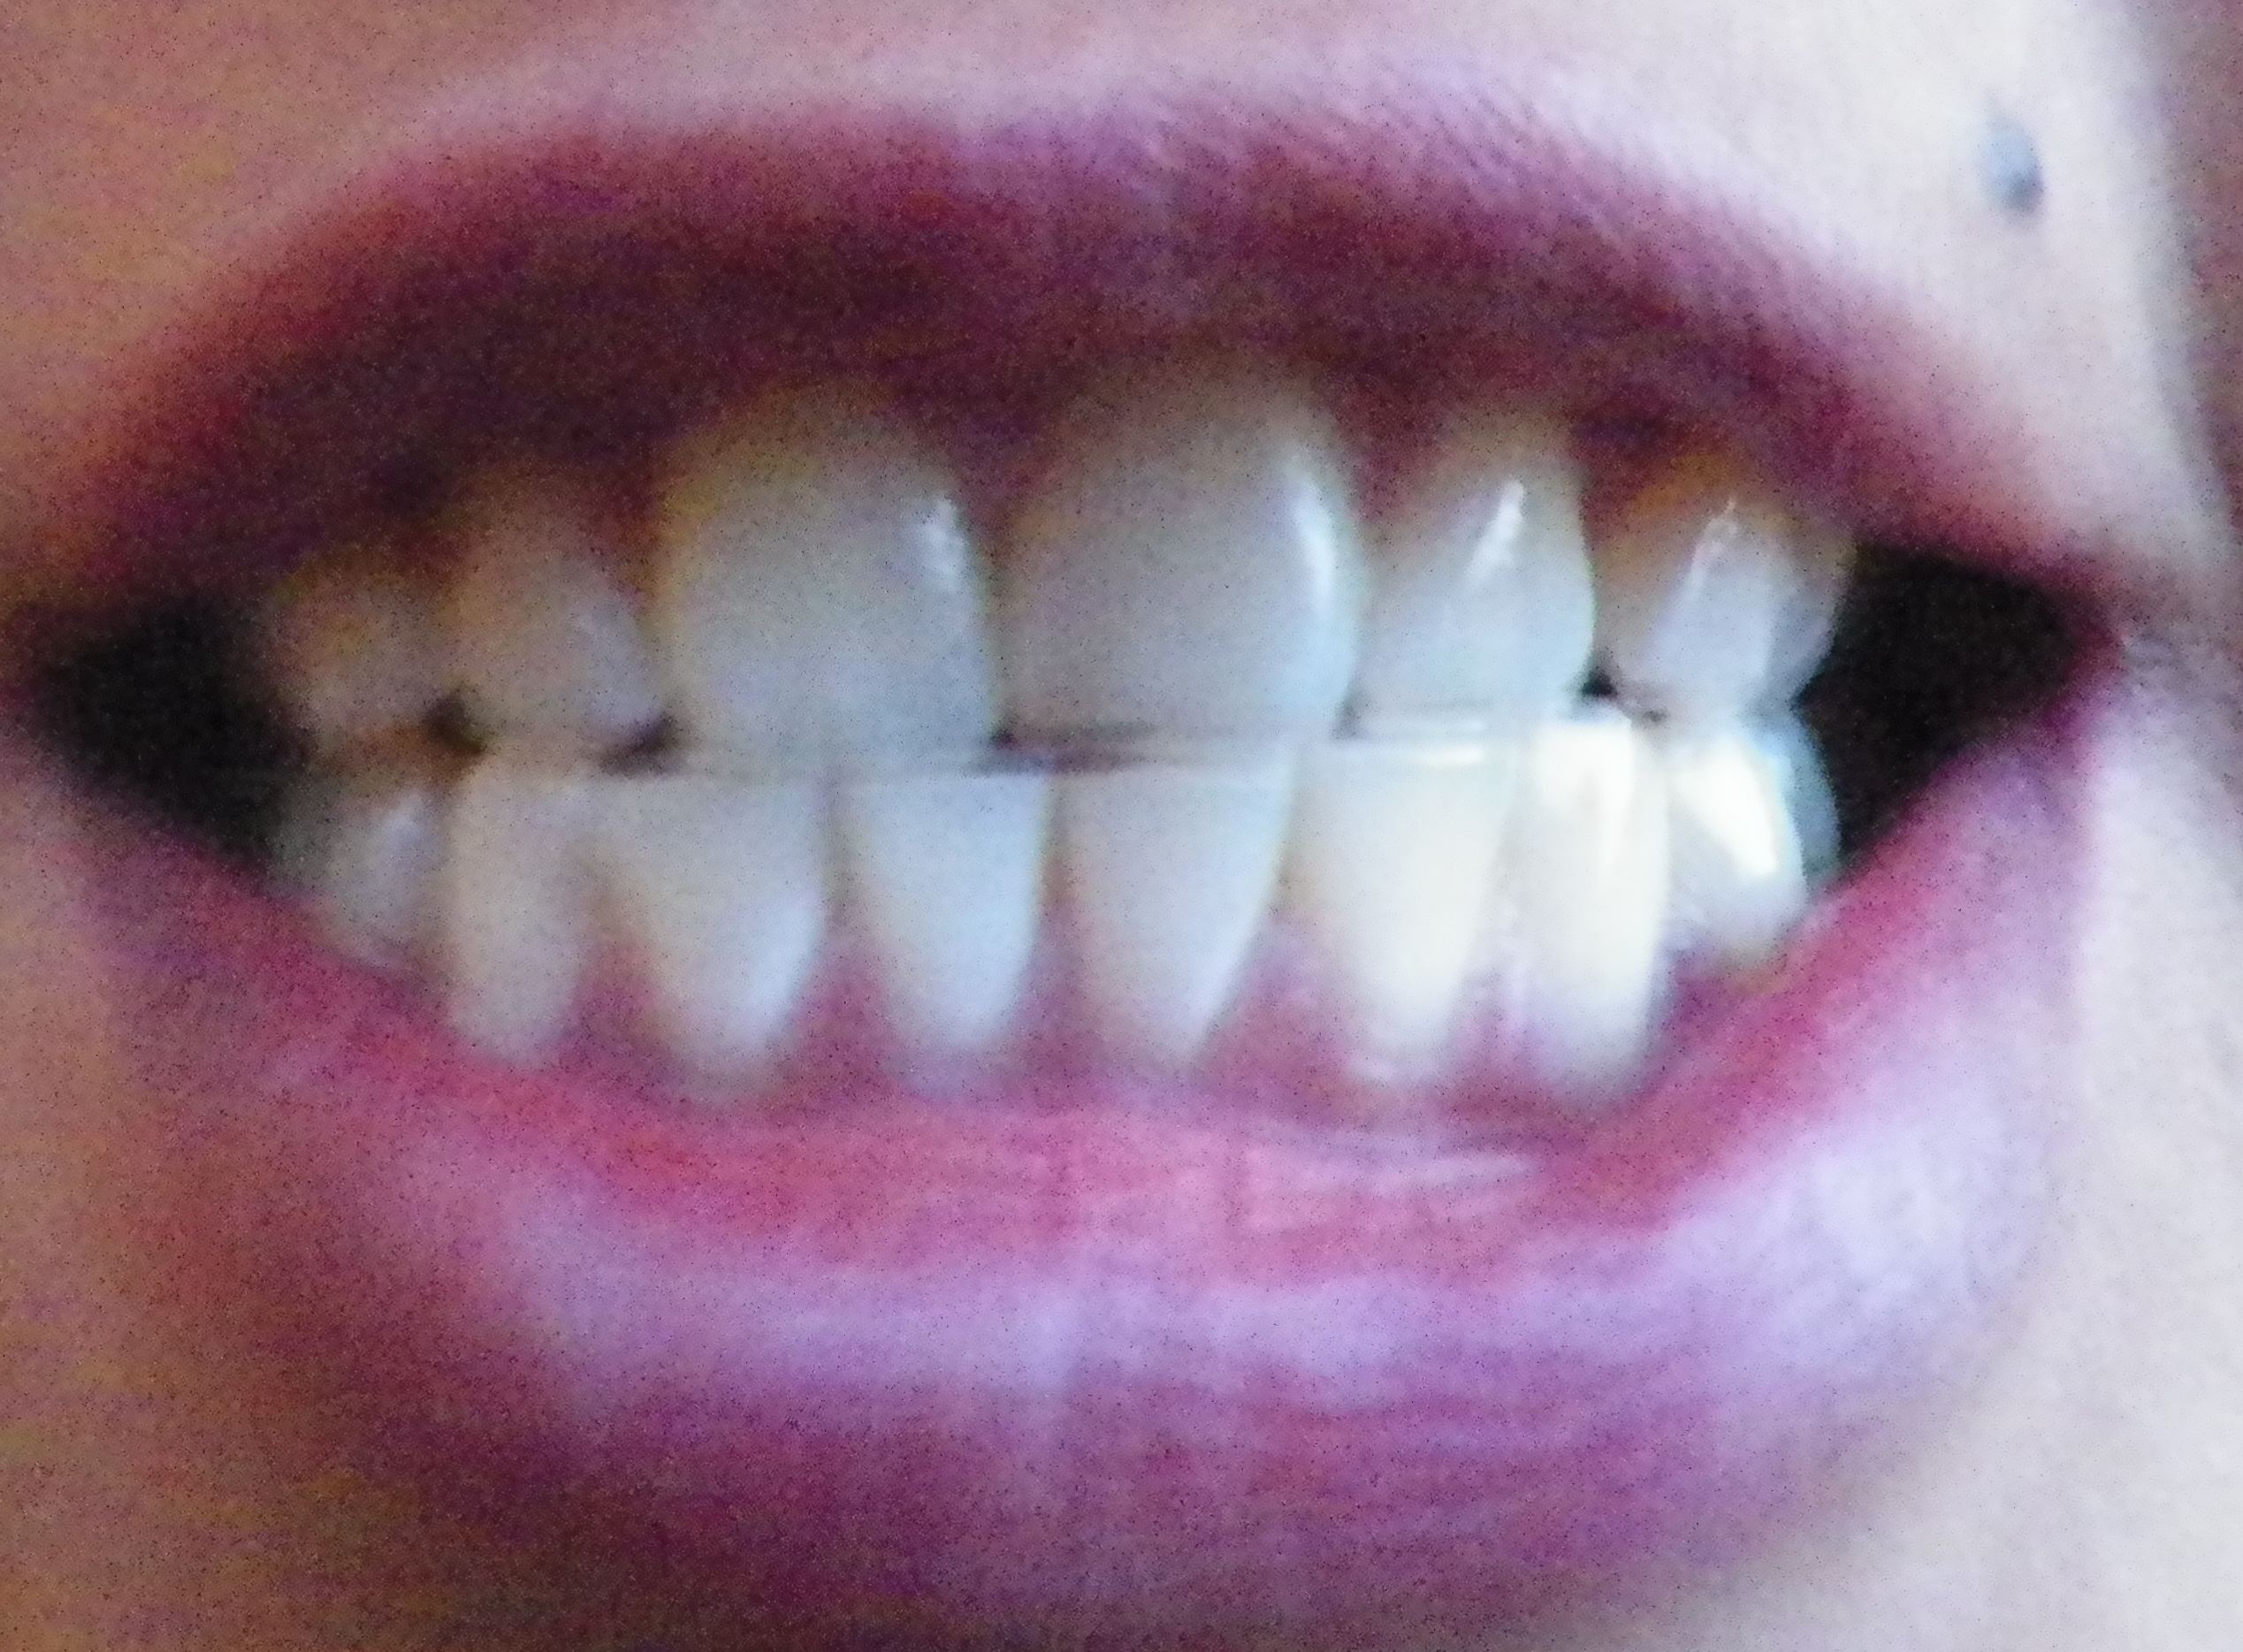boca: (308, 442, 1855, 1058)
